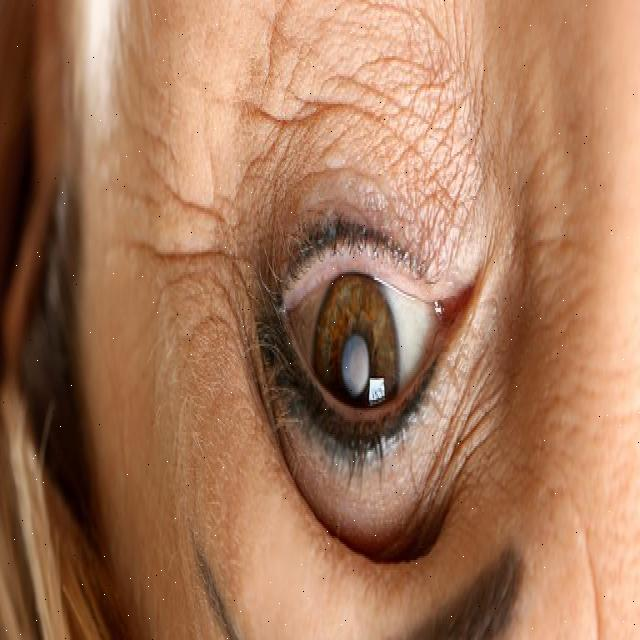Cataract: (310, 270, 402, 472)
